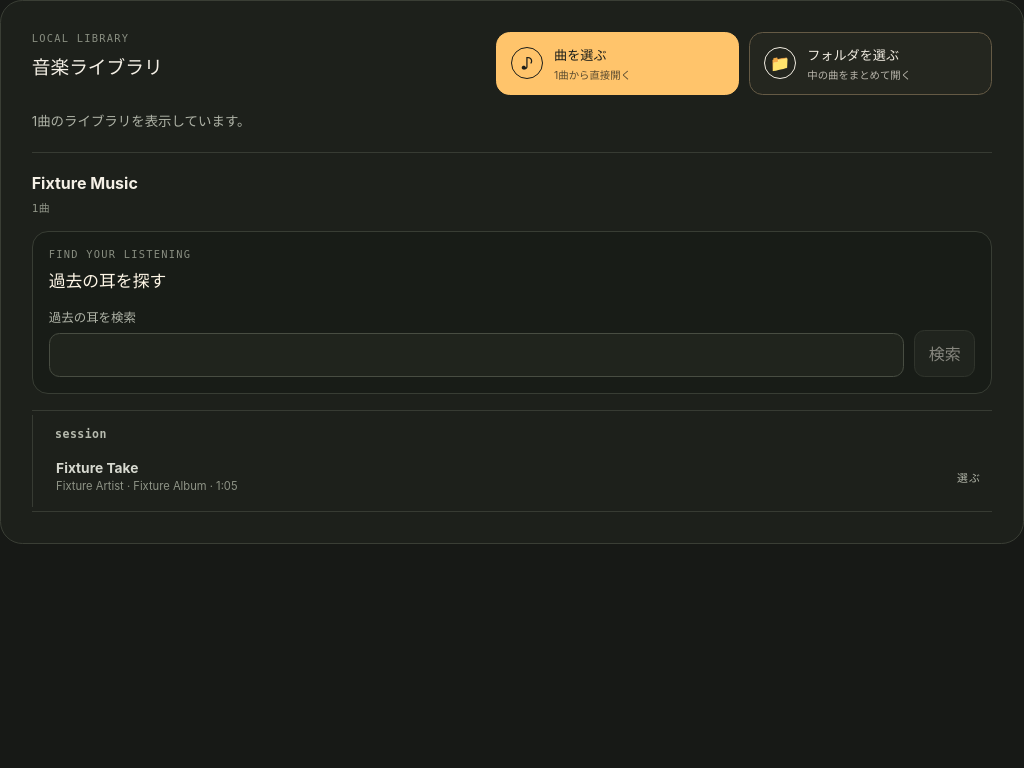
Test: LibraryWorkspace › shows a Track as unavailable and removes its player after a complete scan
This screenshot has width=1024, height=768.
Click the button "Fixture Take Fixture Artist · Fixture Album · 1:05 選ぶ" at (97, 468), box x1=45 y1=446 x2=992 y2=507
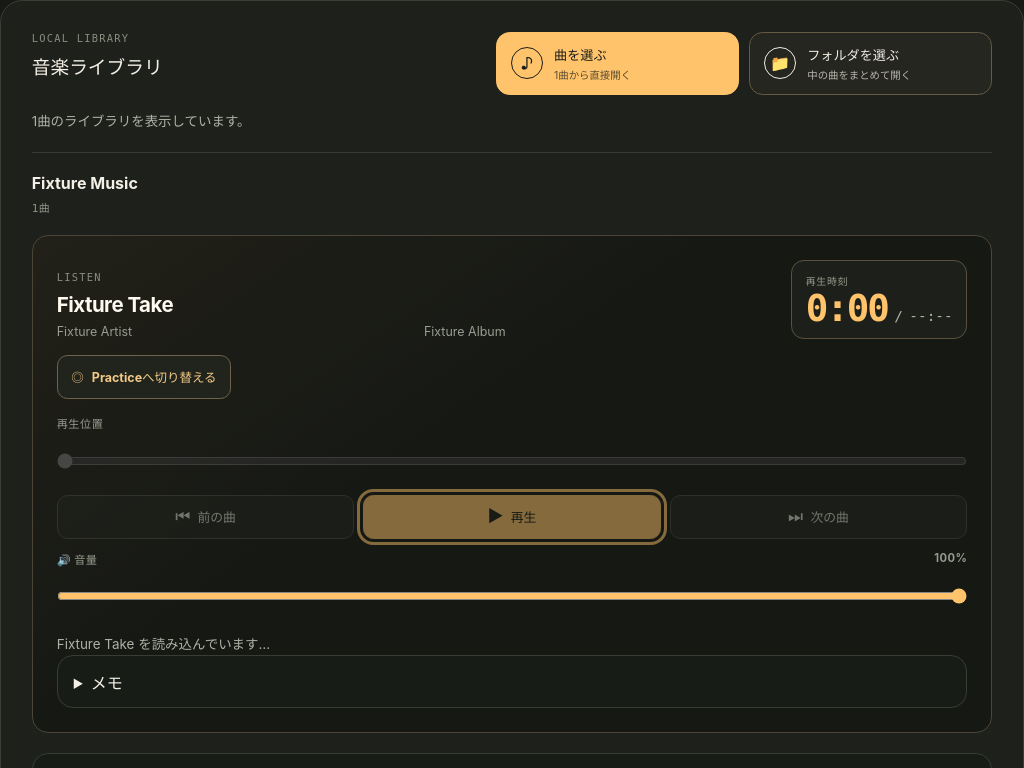
Check: the element named "Fixture Take のListenプレイヤー" is shown
Click the button with aria-label "音楽フォルダを選ぶ" at (871, 63), box x1=750 y1=32 x2=992 y2=95
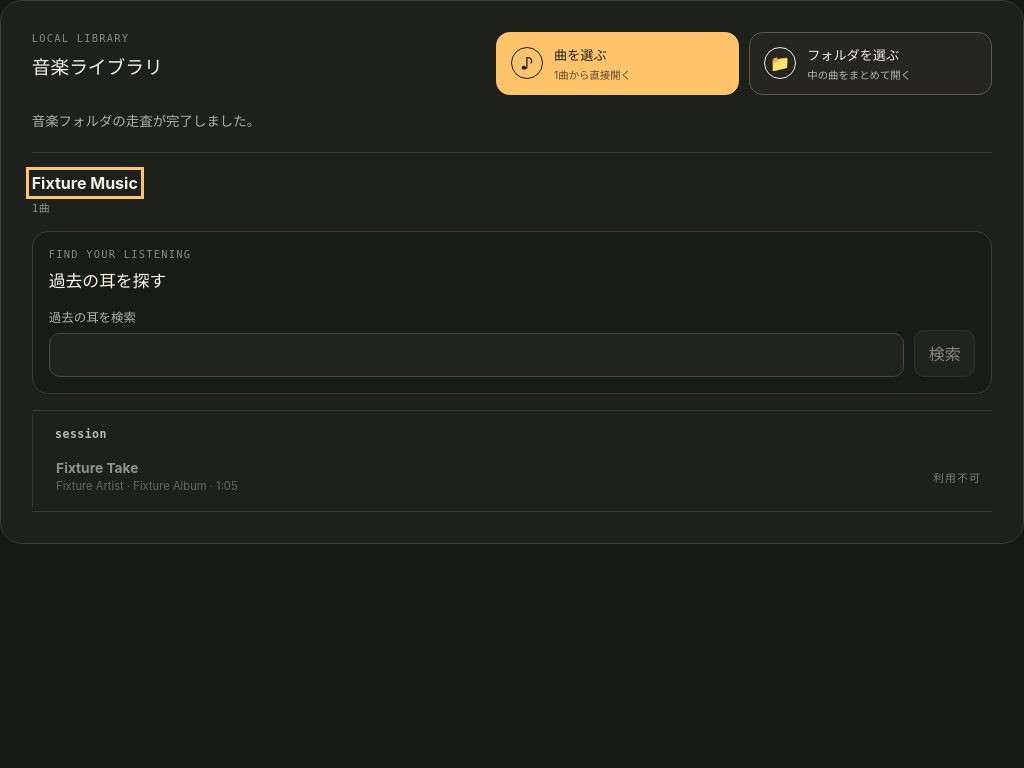
Check: the message named "ライブラリの状態" shows "走査が完了しました", box x1=32 y1=113 x2=260 y2=129
Check: the button "Fixture Take Fixture Artist · Fixture Album · 1:05 利用不可" is disabled, box x1=45 y1=446 x2=992 y2=507
